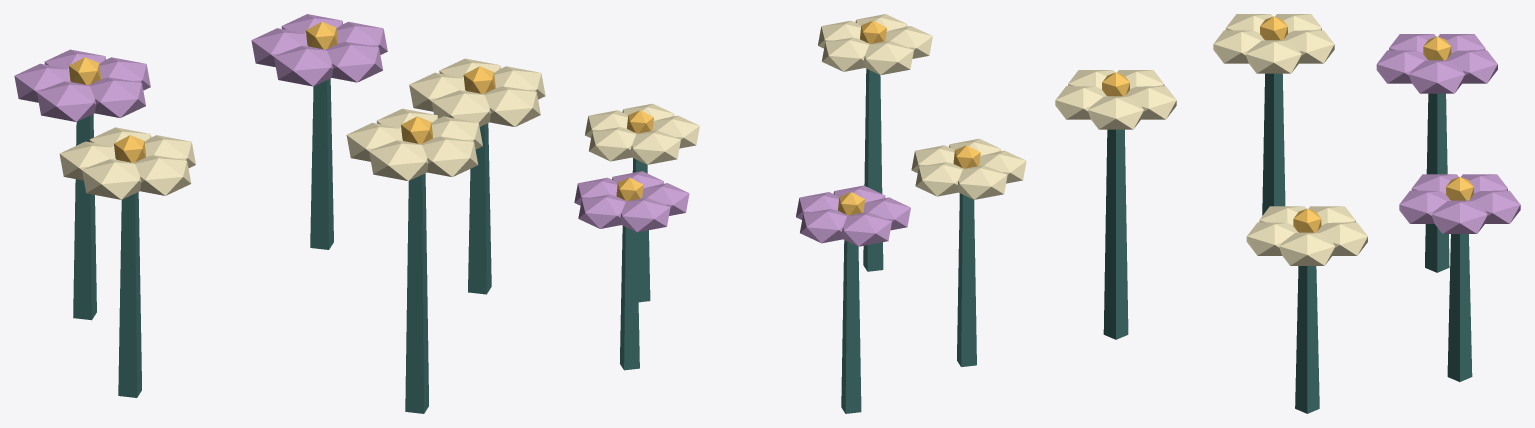
The model's file is enfeite_flores.glb.
3 renders of one model, left to right at view 1: azimuth 30°, elevation 25°; view 2: azimuth 150°, elevation 25°; view 3: azimuth 270°, elevation 25°, orthographic. The views are drawn at different scales.
Visible parts, largest first — view 1: pedreira_enfeite_flores; view 2: pedreira_enfeite_flores; view 3: pedreira_enfeite_flores.
Part boxes in pixels (box(x1,y1,x2,y2)): pedreira_enfeite_flores: box(14, 14, 545, 413); pedreira_enfeite_flores: box(574, 14, 1026, 413); pedreira_enfeite_flores: box(1055, 14, 1520, 413).
Bounding box in the file's own units: 0.366 × 0.211 × 0.339.
